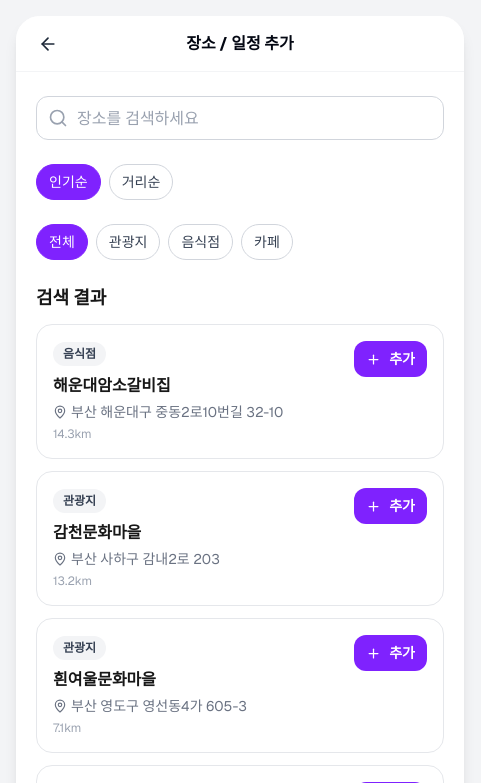
Test: Phase 6 trip screens › uses the previous itinerary place as the distance origin
Click the button "거리순".
click(141, 182)  # box 109,164 -> 173,200
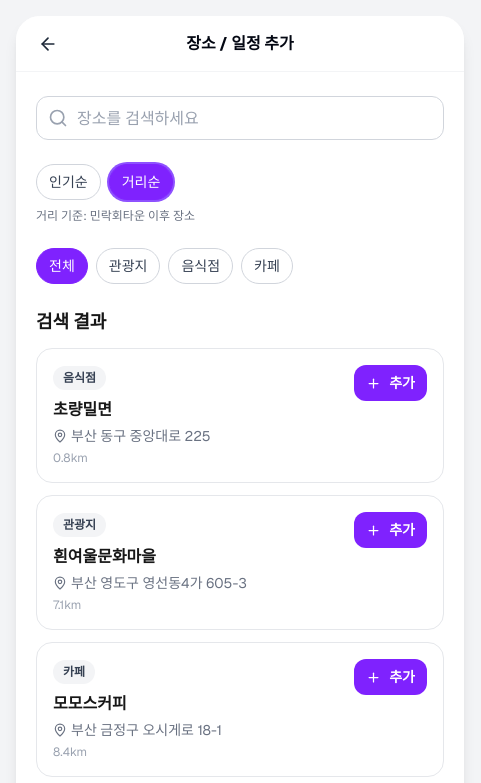
expect the text "거리 기준: 민락회타운 이후 장소" is shown: met, box 36,208 -> 195,224
